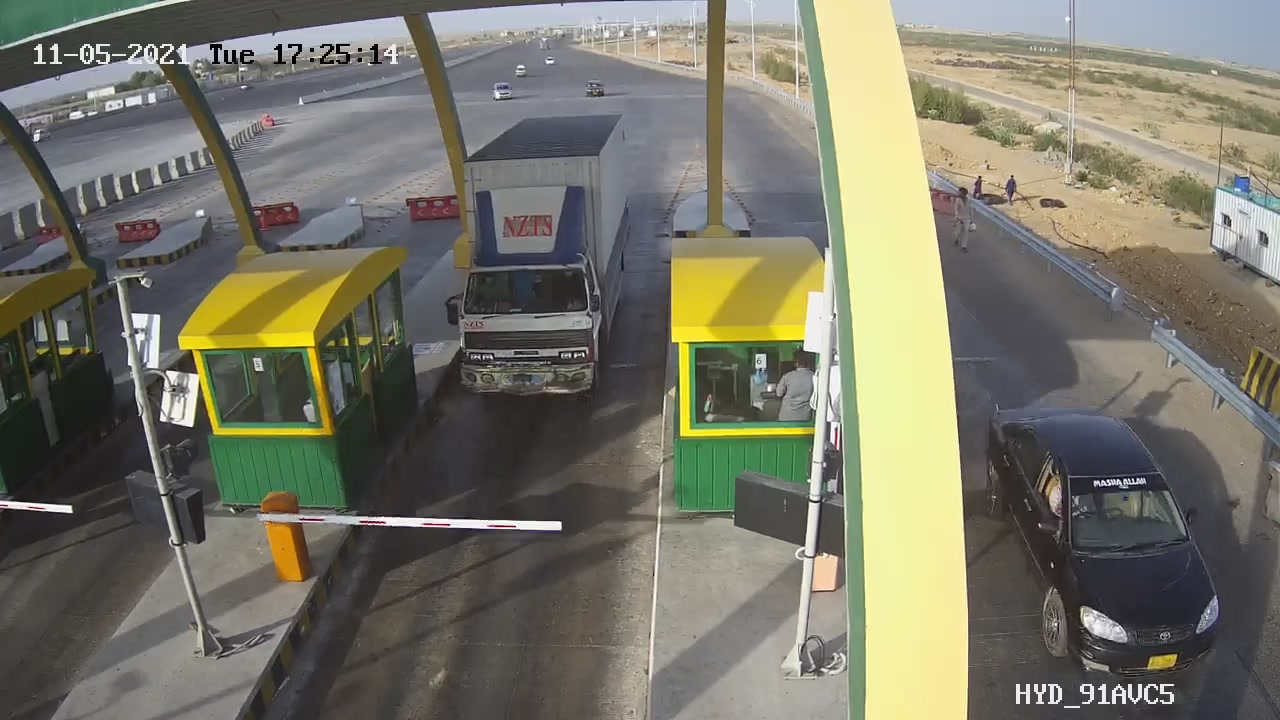F5: (430, 90, 657, 422)
